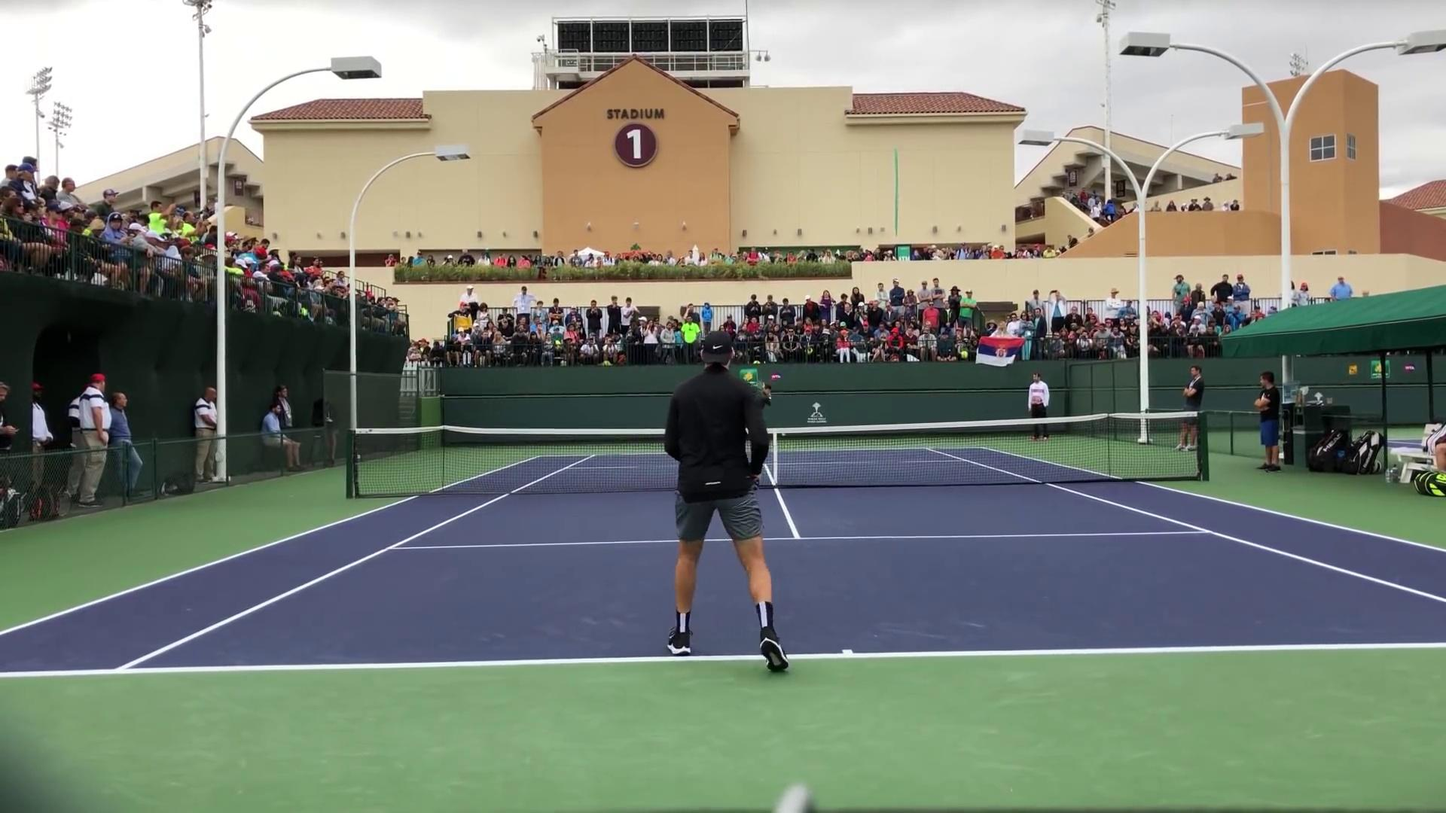ball: (780, 431, 787, 438)
